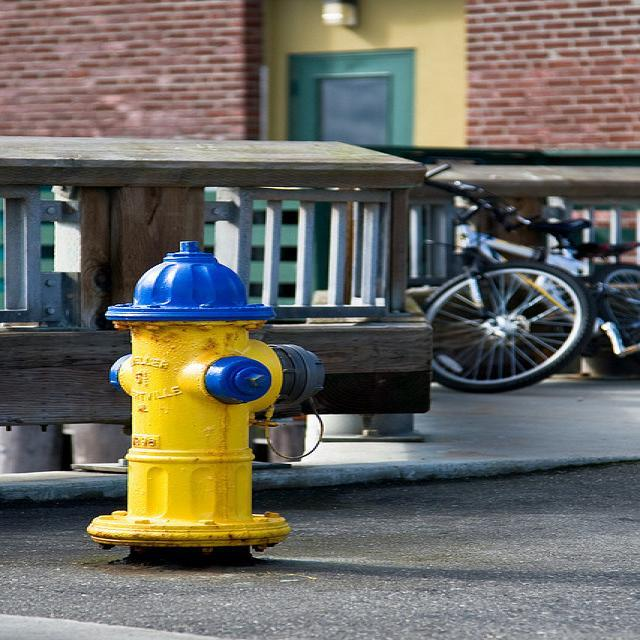fire_hydrant: (84, 241, 324, 561)
